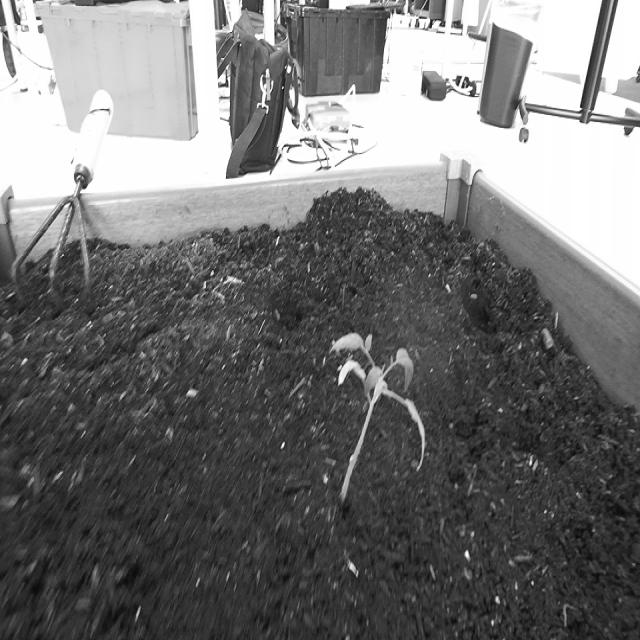Healthy: (323, 298, 433, 524)
